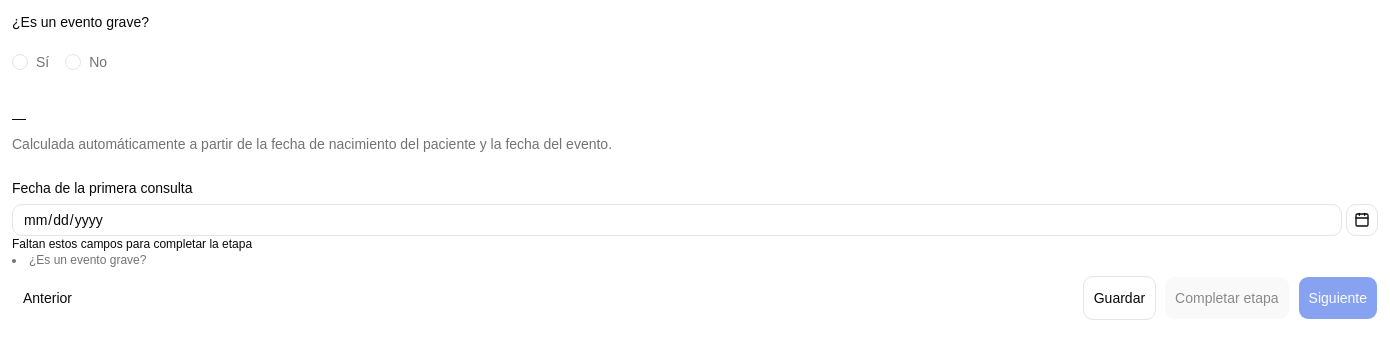
ClassificationStep — expediente cerrado por el servidor (SPEC FE17 §3.1, §4 paso 3) › un 409 CASEFLOW_012_CASE_CLOSED deja el paso en sólo lectura por la relectura del 006
What coordinates should you click on to do the following:
click the radio button named "No" next to "No"
I would click on:
 (73, 62)
Its box is [65,54,81,70].
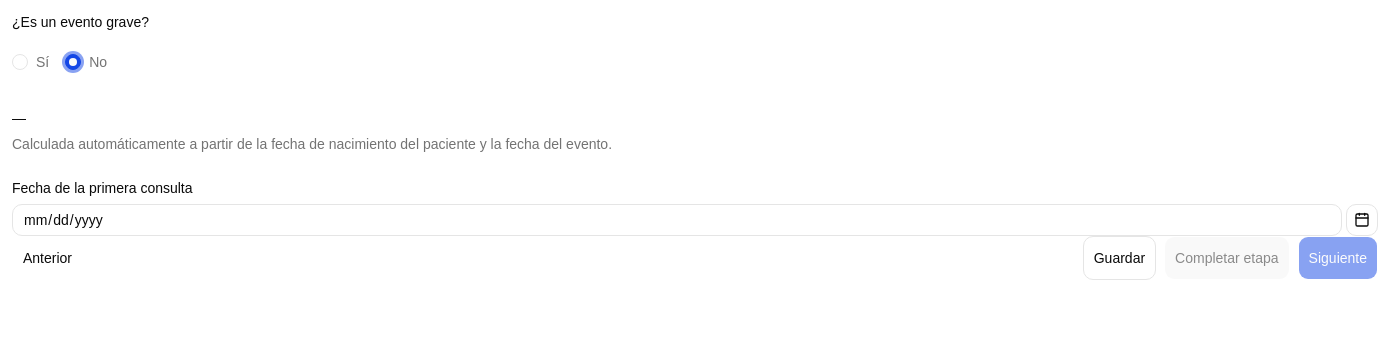
What coordinates should you click on to do the following:
click the button "Guardar"
I would click on:
 (1119, 258)
Its box is [1083,236,1156,280].
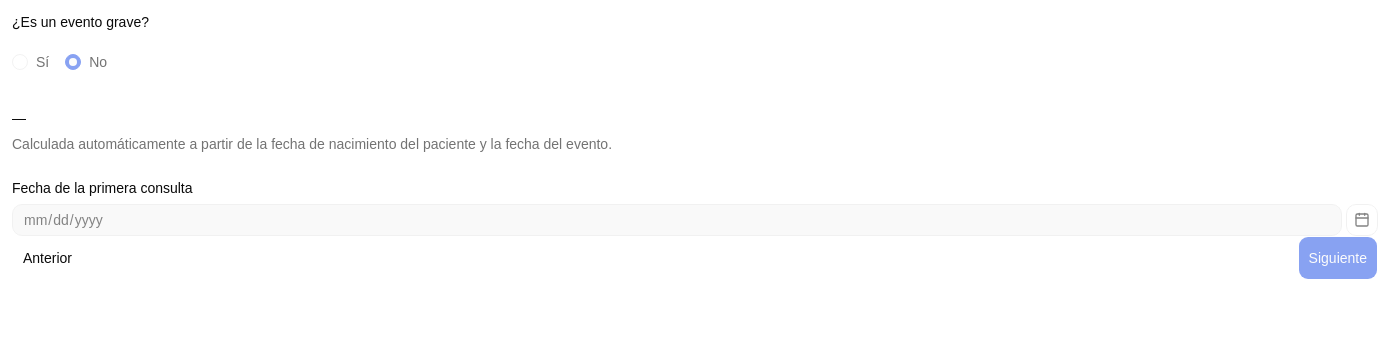
Check: the button "Guardar" is gone
